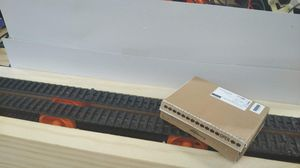box2: (157, 74, 269, 163)
